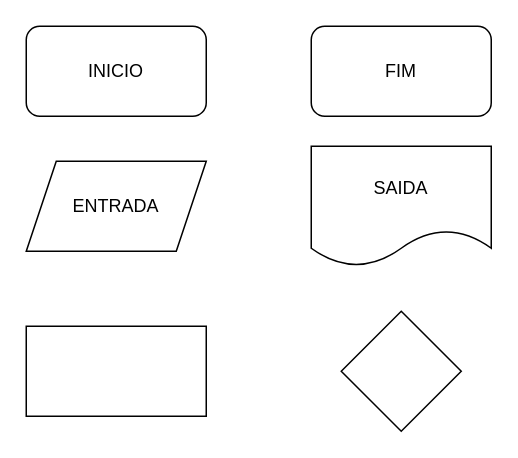
Some shapes in this 518 by 458 pixel diagram are drawn without their labels. Here are the shapes that lost their labels. From the top down, the centre of each, then its label:
At pixel 115 370: "PROCESSAMENTO".
At pixel 400 370: "DECISÃO".
